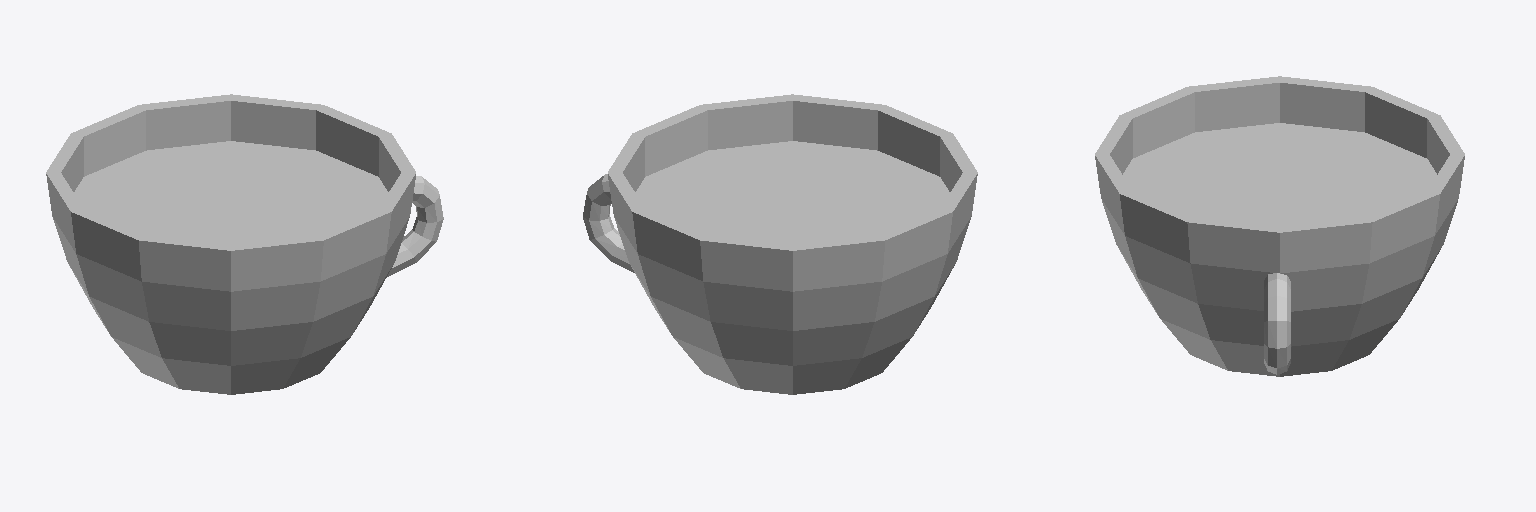
Rendered from SM_Taza.obj.
The picture shows the model from 3 angles: view 1: azimuth 30°, elevation 25°; view 2: azimuth 150°, elevation 25°; view 3: azimuth 270°, elevation 25°; orthographic projection.
Parts seen in each view (by area): view 1: Taza; view 2: Taza; view 3: Taza.
Boxes of the visible parts, <box> form: Taza: <box>46,94,443,394</box>; Taza: <box>583,94,977,394</box>; Taza: <box>1095,76,1464,376</box>.
Bounding box in the file's own units: 1.21 × 0.5601 × 1.05.